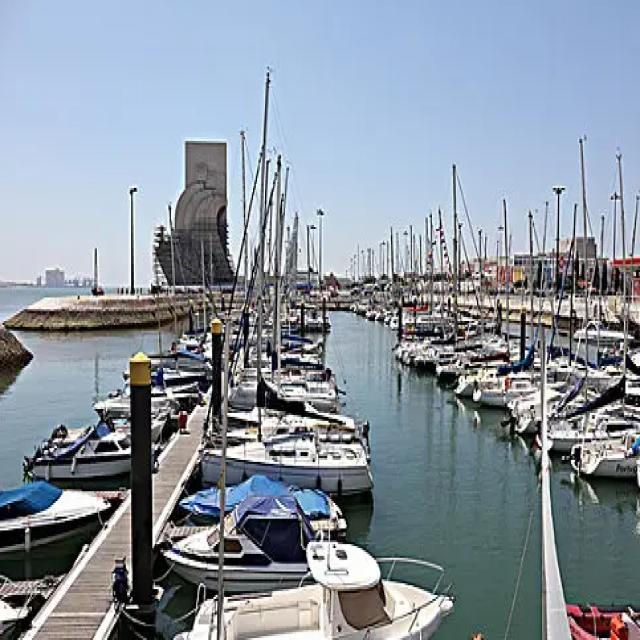houseboat: (184, 528, 457, 640), (166, 494, 342, 578), (210, 422, 377, 493), (0, 474, 129, 560), (30, 411, 153, 479), (101, 377, 184, 419)
